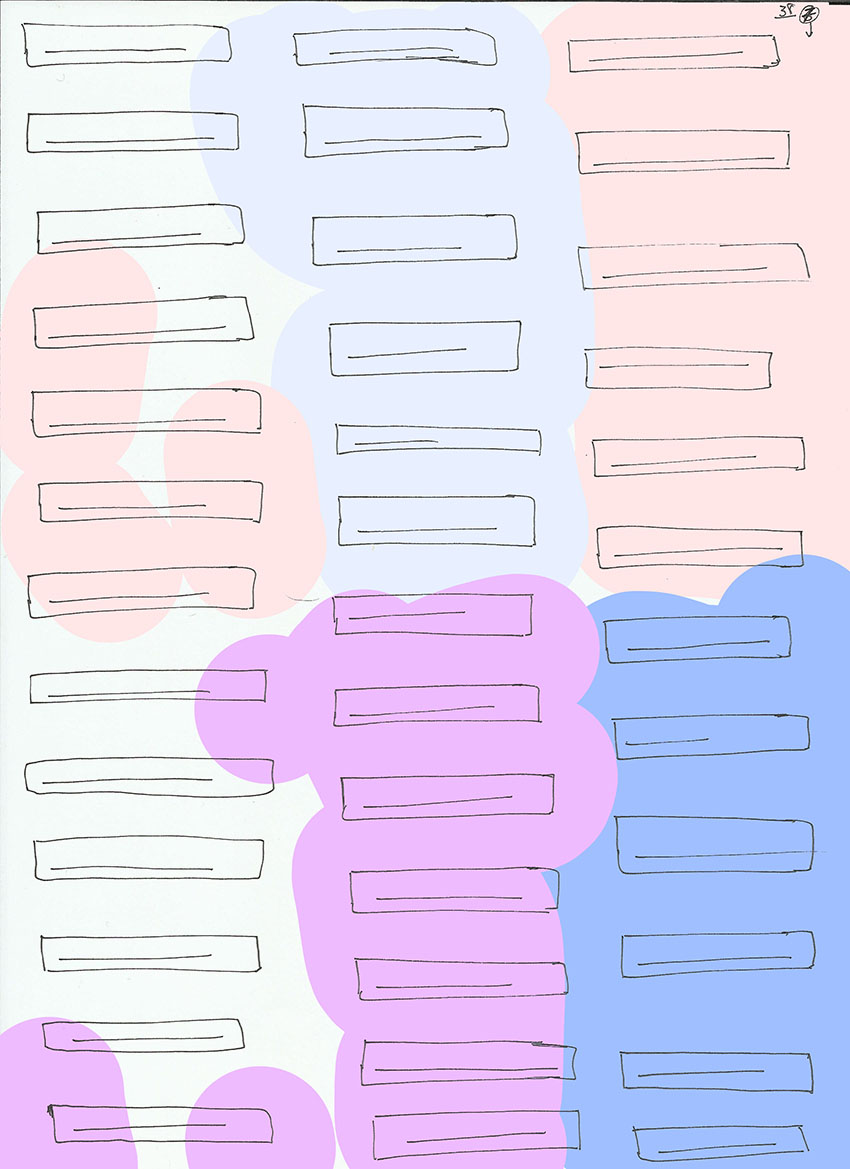edit_text: (610, 810, 824, 877), (24, 563, 261, 622), (29, 293, 257, 352), (306, 209, 520, 271), (575, 240, 816, 294), (19, 754, 277, 804), (299, 99, 510, 160), (30, 830, 267, 884), (333, 490, 539, 552), (32, 200, 248, 258), (43, 1097, 277, 1150), (29, 386, 267, 438), (335, 771, 558, 825), (369, 1108, 586, 1163), (571, 125, 794, 178), (325, 318, 525, 377), (345, 863, 563, 917), (17, 17, 232, 71), (357, 1035, 579, 1087), (350, 950, 570, 1002), (600, 612, 796, 668), (36, 930, 263, 978), (35, 477, 266, 524), (329, 590, 537, 642), (591, 522, 807, 572), (608, 711, 813, 763), (24, 665, 271, 708), (21, 108, 243, 155), (617, 928, 819, 979), (588, 433, 807, 480), (331, 681, 542, 729), (616, 1048, 817, 1098), (581, 342, 774, 394), (564, 30, 781, 75), (289, 25, 499, 71), (38, 1013, 251, 1058), (330, 417, 542, 460), (630, 1119, 813, 1160)
